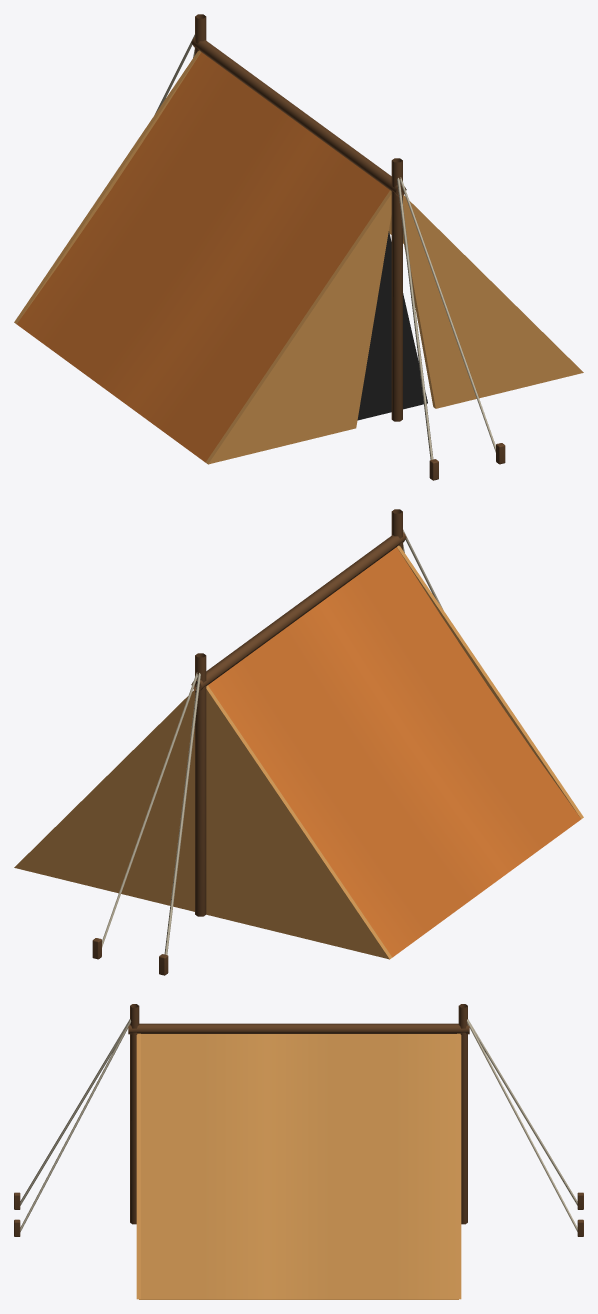
The model's file is tent_0.glb.
3 views of the same model, one above another, from view 1: azimuth 30°, elevation 25°; view 2: azimuth 150°, elevation 25°; view 3: azimuth 270°, elevation 25° (orthographic). The views are drawn at different scales.
Visible parts, largest first — view 1: tent_0_main; view 2: tent_0_main; view 3: tent_0_main.
Part boxes in pixels (left/top/right/bottom): tent_0_main: left=14, top=14, right=583, bottom=480; tent_0_main: left=14, top=509, right=583, bottom=975; tent_0_main: left=14, top=1004, right=583, bottom=1299.
Bounding box in the file's own units: 1.7 × 1.13 × 2.67.
